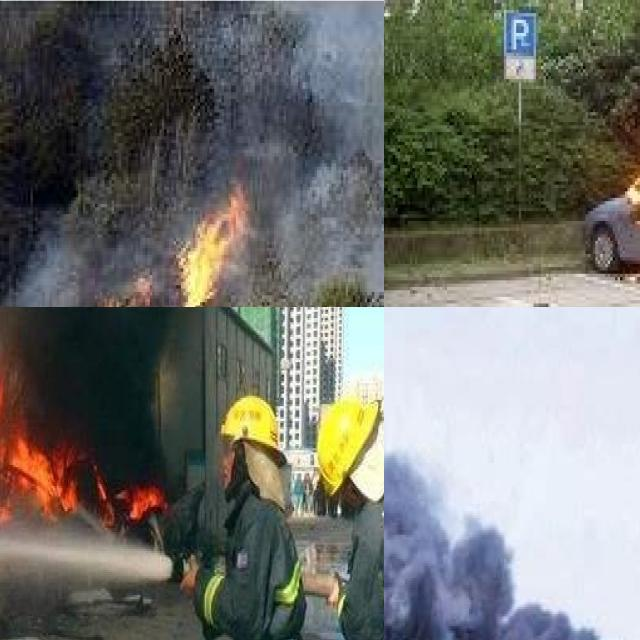fire: (0, 307, 169, 528), (173, 183, 238, 307)
smoke: (384, 307, 636, 640), (14, 307, 174, 509), (276, 0, 384, 278)
